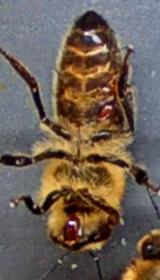varroa_mite: (94, 98, 120, 128)
